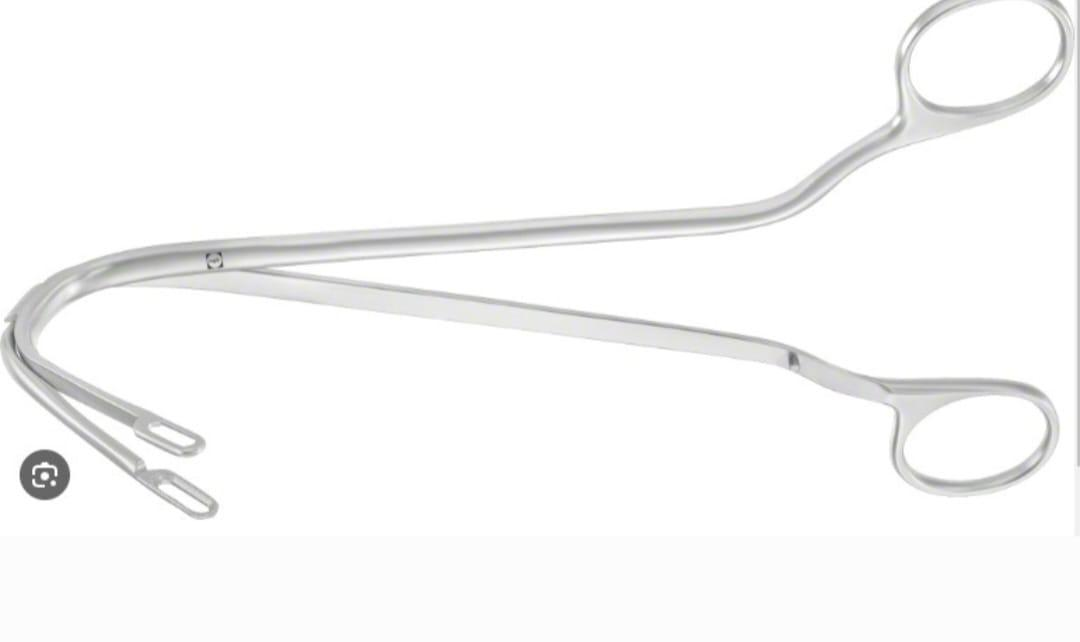Randall: (3, 0, 1080, 525)
